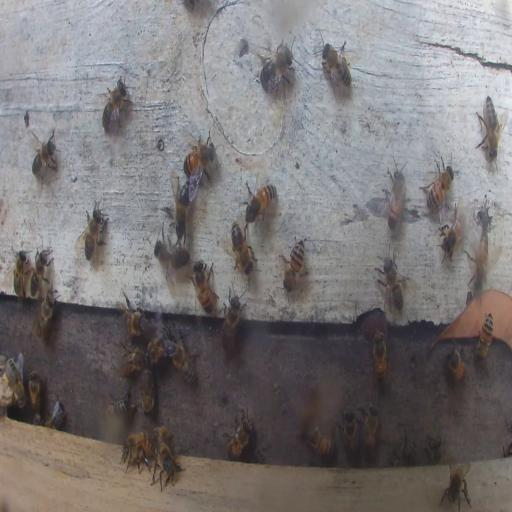nonpollenbee: (75, 195, 109, 264), (376, 247, 409, 318), (256, 41, 294, 96), (319, 38, 352, 98), (421, 154, 454, 214), (475, 93, 503, 161), (152, 232, 186, 286), (100, 75, 130, 133), (440, 461, 473, 511), (182, 134, 215, 182), (220, 286, 245, 348), (387, 157, 406, 234), (31, 132, 58, 186), (439, 204, 464, 262), (191, 259, 217, 314), (282, 235, 306, 293), (120, 430, 153, 472), (224, 414, 253, 461), (230, 220, 254, 274), (29, 246, 53, 299), (358, 403, 380, 459), (246, 182, 276, 223), (171, 337, 196, 386), (119, 294, 147, 336), (171, 178, 192, 232), (36, 289, 58, 338), (468, 228, 488, 280), (146, 328, 172, 364), (154, 446, 176, 488), (475, 312, 493, 362), (109, 386, 138, 417), (372, 328, 388, 384), (304, 427, 334, 456), (444, 346, 468, 382), (341, 409, 358, 457), (13, 250, 29, 300), (119, 346, 146, 374), (394, 434, 418, 464), (45, 398, 66, 430), (140, 368, 154, 414), (28, 371, 42, 415), (426, 435, 444, 464), (153, 427, 173, 447)
pollenbee: (2, 353, 25, 410)
